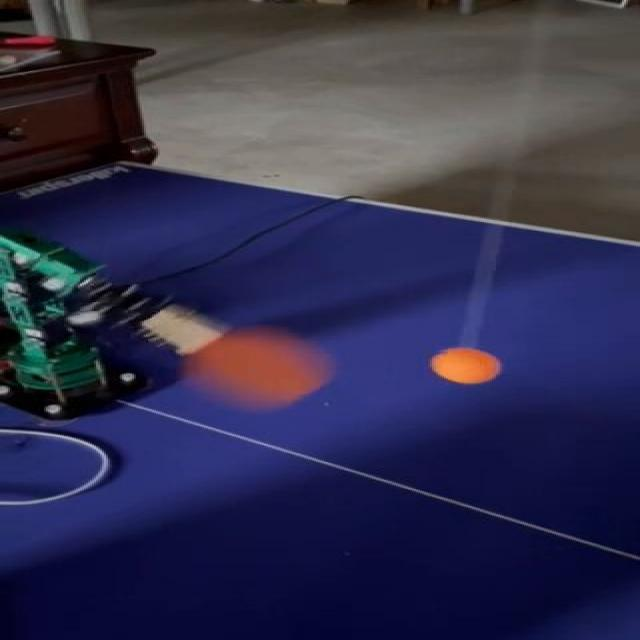ping-pong-ball: (434, 348, 502, 384)
